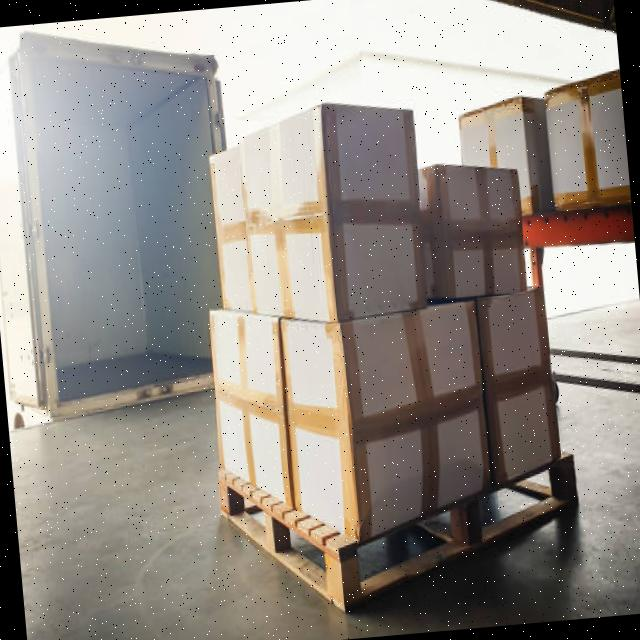Wooden-Pallets: (218, 444, 584, 620)
